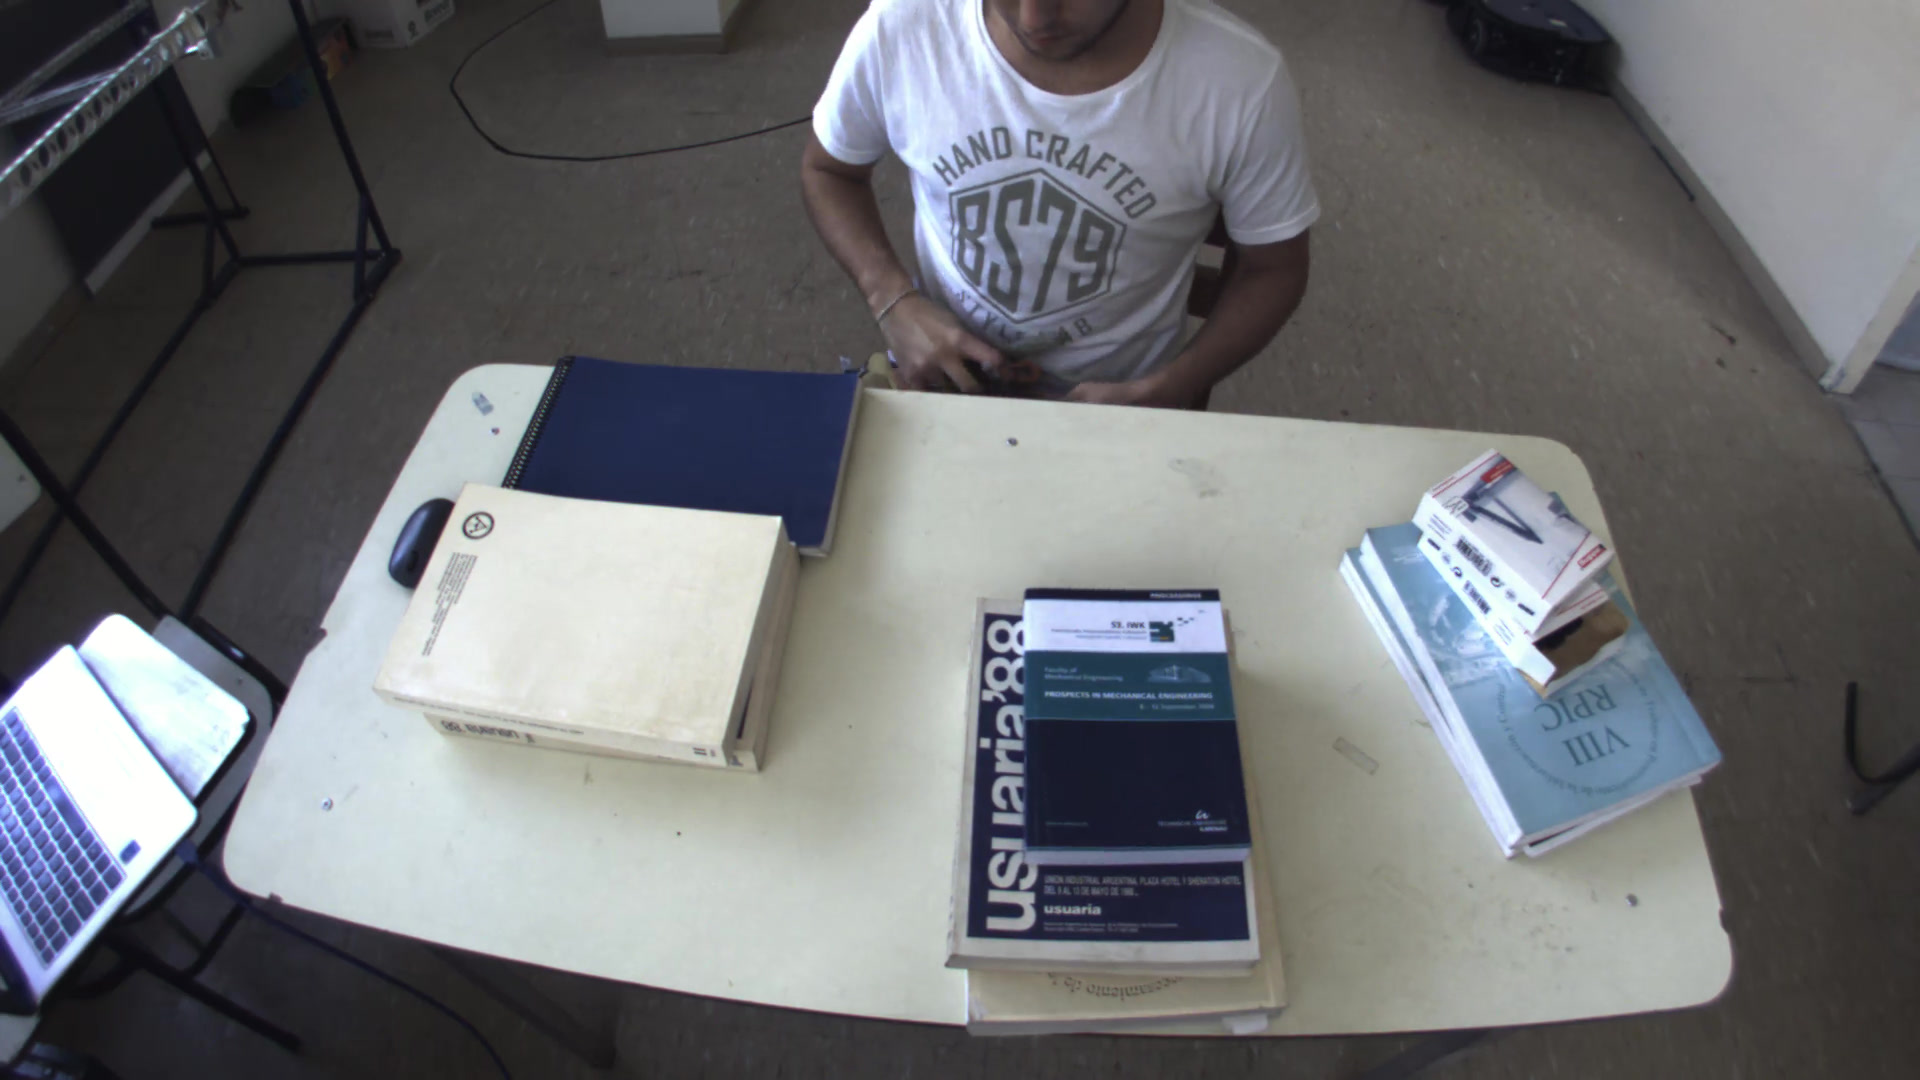hand: (866, 281, 1000, 400)
